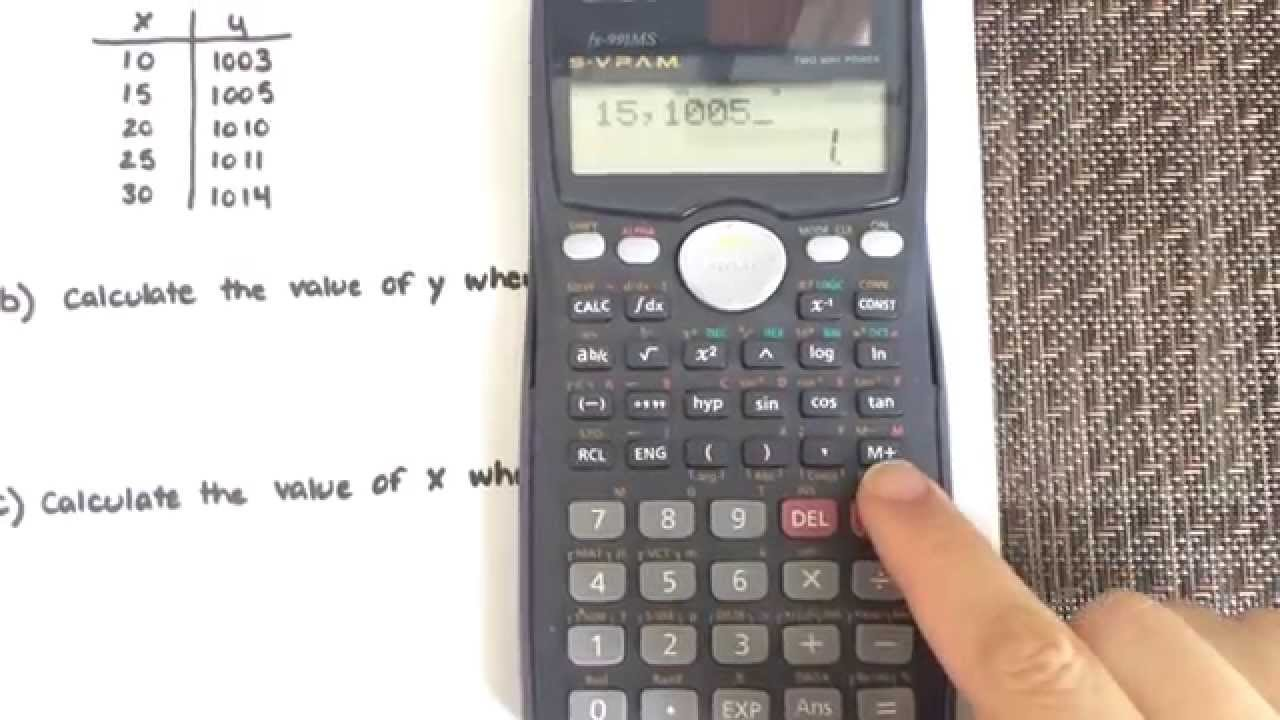Calculator: (515, 1, 966, 720)
